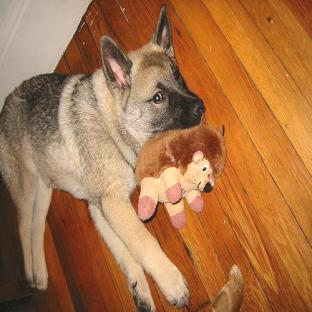Animal: (0, 6, 205, 310)
